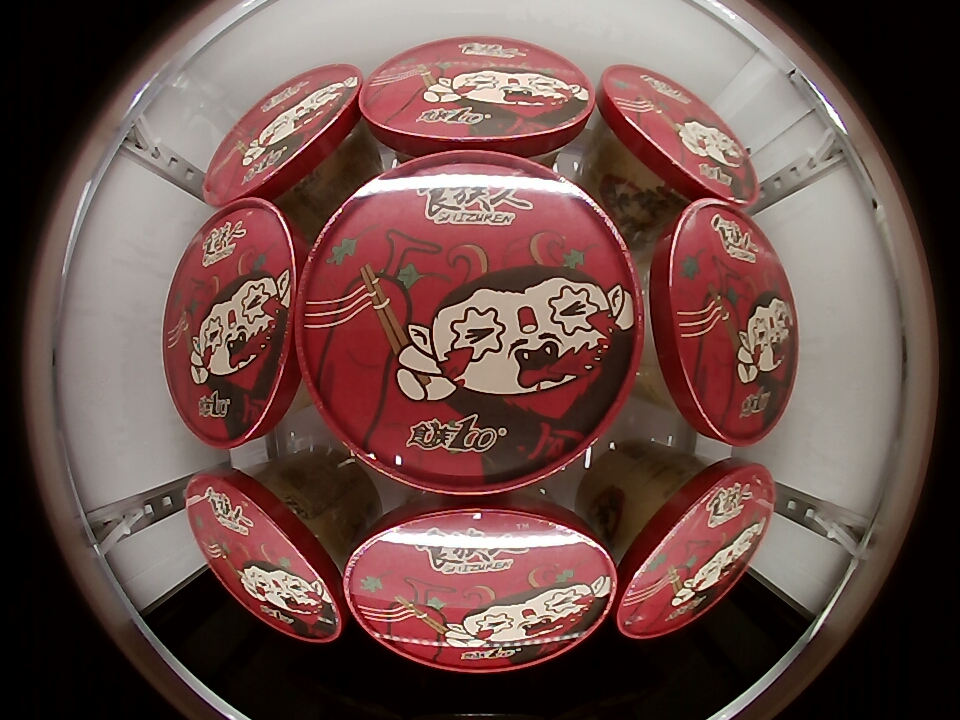suanlafen: (296, 150, 645, 495), (342, 497, 619, 672), (644, 196, 799, 446), (163, 198, 306, 448), (359, 37, 597, 161), (612, 457, 775, 638), (187, 470, 350, 642), (203, 64, 366, 209), (596, 64, 758, 208)
